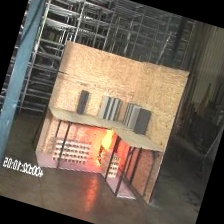fire: (88, 117, 123, 172)
